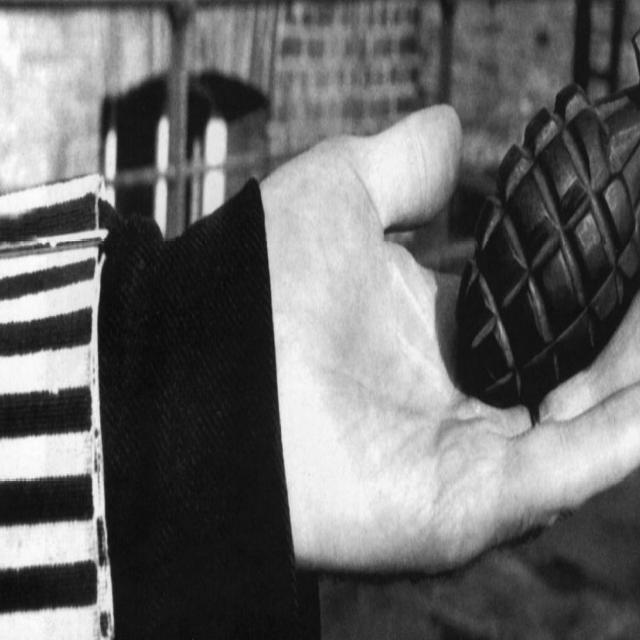grenade: (455, 82, 640, 408)
